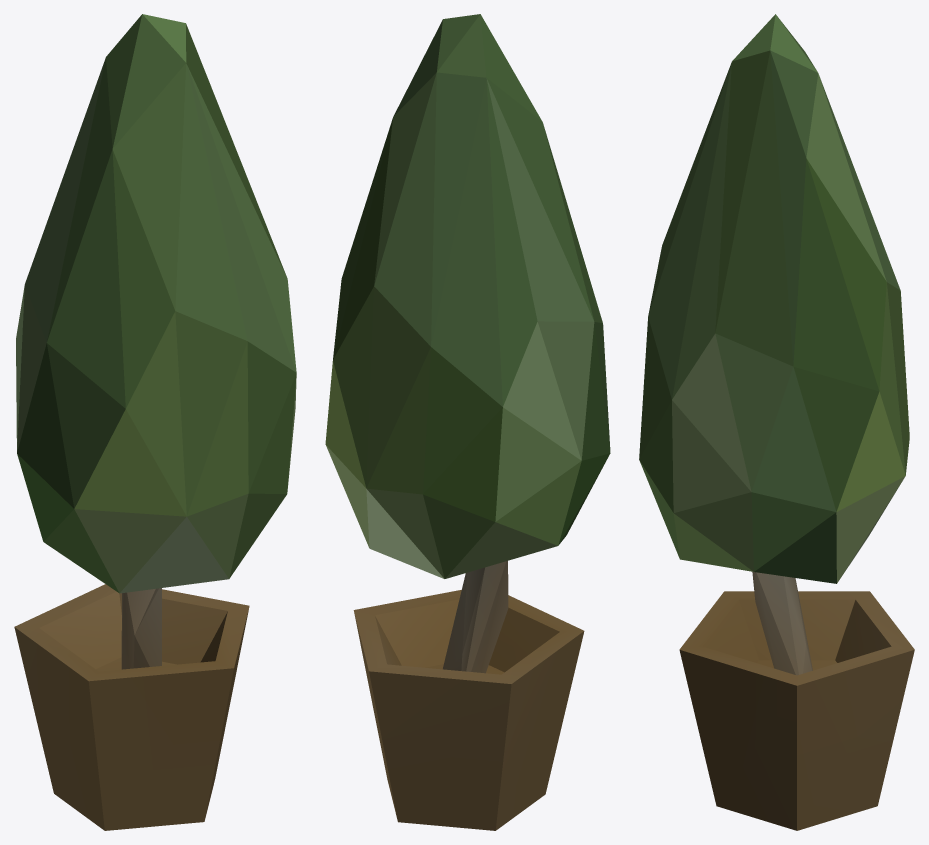
File: PottedPlant2.fbx
3 renders of one model, left to right at view 1: azimuth 30°, elevation 25°; view 2: azimuth 150°, elevation 25°; view 3: azimuth 270°, elevation 25°, orthographic. The views are drawn at different scales.
Visible parts, largest first — view 1: Bush-Potted_B, Bush-Potted_B.001, Bush-Potted_B.002; view 2: Bush-Potted_B, Bush-Potted_B.001, Bush-Potted_B.002; view 3: Bush-Potted_B, Bush-Potted_B.001, Bush-Potted_B.002.
Boxes of the visible parts, x1,y1,x2,y2 form: Bush-Potted_B: (16, 14, 296, 593); Bush-Potted_B.001: (14, 584, 249, 830); Bush-Potted_B.002: (121, 588, 161, 669); Bush-Potted_B: (325, 14, 610, 578); Bush-Potted_B.001: (353, 590, 584, 830); Bush-Potted_B.002: (443, 561, 508, 673); Bush-Potted_B: (639, 14, 909, 583); Bush-Potted_B.001: (679, 591, 914, 830); Bush-Potted_B.002: (752, 571, 812, 675).
Bounding box in the file's own units: 80.98 × 241 × 77.41.
